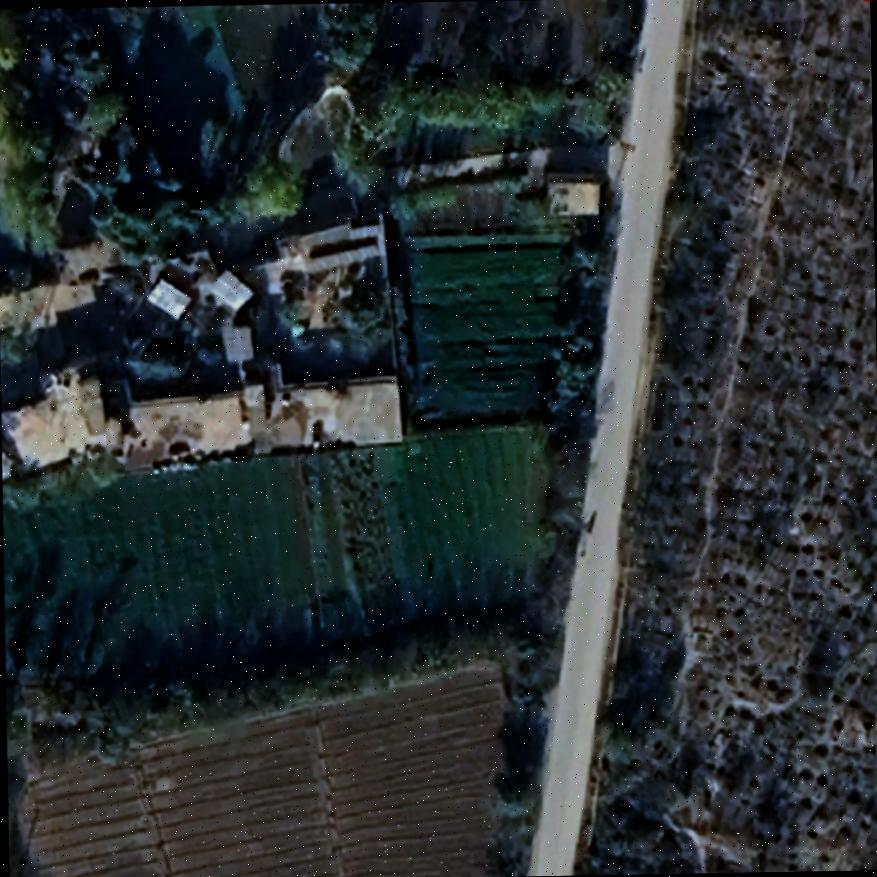Solarpanel: (206, 268, 255, 311), (142, 276, 192, 317), (348, 219, 382, 242)
